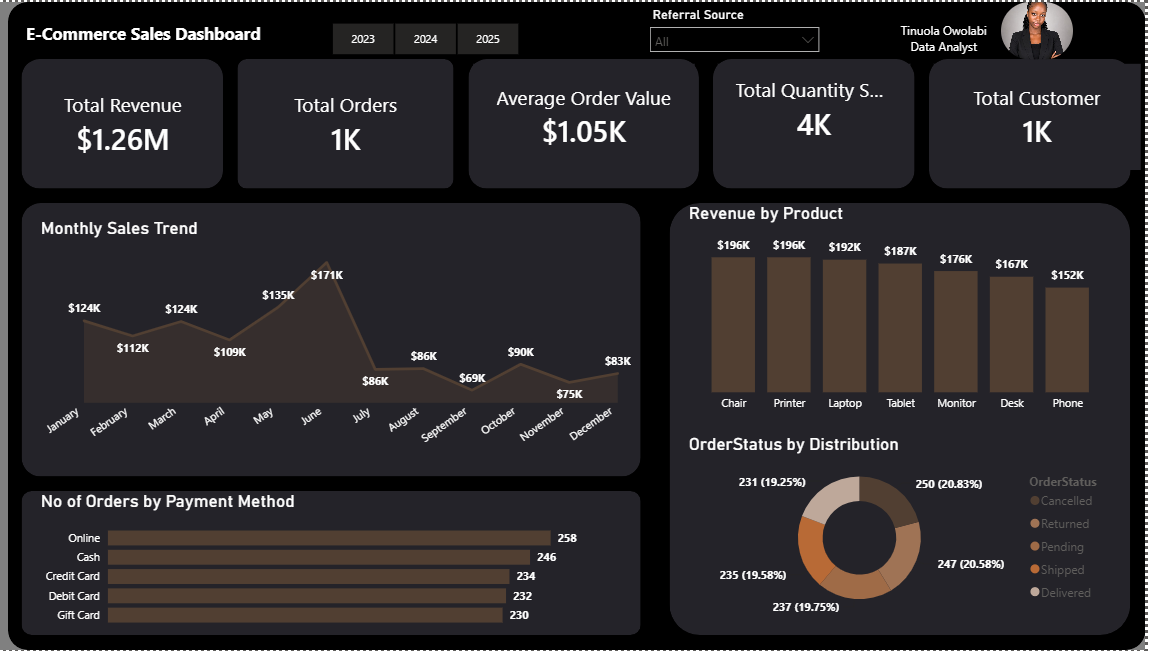

What the dashboard file says about the page in this screenshot:
{"tool":"powerbi","page":{"name":"Page 1","canvas":[1280,720],"ordinal":0},"visuals":[{"type":"shape","box":[0,0,1280,720],"z":0},{"type":"shape","box":[16,0,1264,720],"z":1000},{"type":"textbox","box":[32,16,336,48],"z":2000},{"type":"shape","box":[32,64,224,144],"z":3000},{"type":"shape","box":[800,64,224,144],"z":4000},{"type":"shape","box":[1040,64,224,144],"z":5000},{"type":"shape","box":[272,64,240,144],"z":6000},{"type":"shape","box":[528,64,256,144],"z":7000},{"type":"cardVisual","fields":{"Data":["Cleaned data.Total Revenue"]},"box":[48,80,192,112],"z":8000},{"type":"cardVisual","fields":{"Data":["Cleaned data.Total Orders"]},"box":[288,80,208,112],"z":9000},{"type":"cardVisual","fields":{"Data":["Cleaned data.Average Order Value"]},"box":[528,64,256,128],"z":10000},{"type":"cardVisual","fields":{"Data":["Cleaned data.Total Quantity Sold"]},"box":[800,64,224,112],"z":11000},{"type":"cardVisual","fields":{"Data":["Cleaned data.Total Customer"]},"box":[1040,64,240,128],"z":12000},{"type":"shape","box":[32,224,688,304],"z":13000},{"type":"areaChart","title":" Monthly Sales Trend","fields":{"Category":["DateTable.Month"],"Y":["Cleaned data.Total Revenue"]},"box":[48,240,672,272],"z":14000},{"type":"shape","box":[752,224,512,480],"z":15000},{"type":"columnChart","title":" Revenue by Product","fields":{"Y":["Cleaned data.Total Revenue"],"Category":["Cleaned data.Product"]},"box":[768,224,480,240],"z":16000},{"type":"donutChart","title":"OrderStatus by Distribution","fields":{"Category":["Cleaned data.OrderStatus"],"Y":["CountNonNull(Cleaned data.OrderID)"]},"box":[768,480,480,208],"z":17000},{"type":"shape","box":[32,544,688,160],"z":18000},{"type":"clusteredBarChart","title":"No of Orders by Payment Method","fields":{"Y":["CountNonNull(Cleaned data.OrderID)"],"Category":["Cleaned data.PaymentMethod"]},"box":[48,544,656,160],"z":19000},{"type":"slicer","fields":{"Values":["DateTable.Year"]},"box":[352,16,256,48],"z":20000},{"type":"slicer","fields":{"Values":["Cleaned data.ReferralSource"]},"box":[720,0,208,64],"z":20001},{"type":"textbox","box":[928,16,256,48],"z":20002},{"type":"image","box":[1120,0,80,64],"z":20003}]}

Visuals, with their boxes in screenshot pixels (x1, y1, x2, y2), scaled from the page's 1280x720 canvas onto the 1151x651 screenshot:
shape: 0:0:1150:650
shape: 14:0:1150:650
textbox: 29:14:331:58
shape: 29:58:230:188
shape: 719:58:921:188
shape: 935:58:1137:188
shape: 245:58:460:188
shape: 475:58:705:188
cardVisual - Cleaned data.Total Revenue: 43:72:216:174
cardVisual - Cleaned data.Total Orders: 259:72:446:174
cardVisual - Cleaned data.Average Order Value: 475:58:705:174
cardVisual - Cleaned data.Total Quantity Sold: 719:58:921:159
cardVisual - Cleaned data.Total Customer: 935:58:1150:174
shape: 29:203:647:477
" Monthly Sales Trend" areaChart: 43:217:647:463
shape: 676:203:1137:637
" Revenue by Product" columnChart: 691:203:1122:420
"OrderStatus by Distribution" donutChart: 691:434:1122:622
shape: 29:492:647:637
"No of Orders by Payment Method" clusteredBarChart: 43:492:633:637
slicer - DateTable.Year: 317:14:547:58
slicer - Cleaned data.ReferralSource: 647:0:834:58
textbox: 834:14:1065:58
image: 1007:0:1079:58
